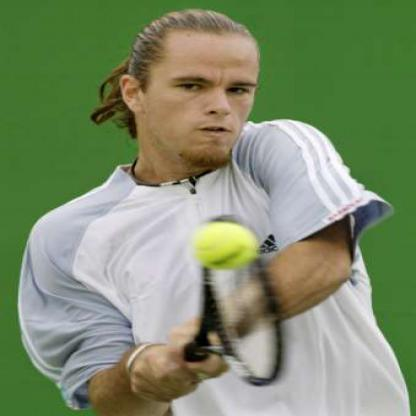face: (142, 13, 263, 168)
